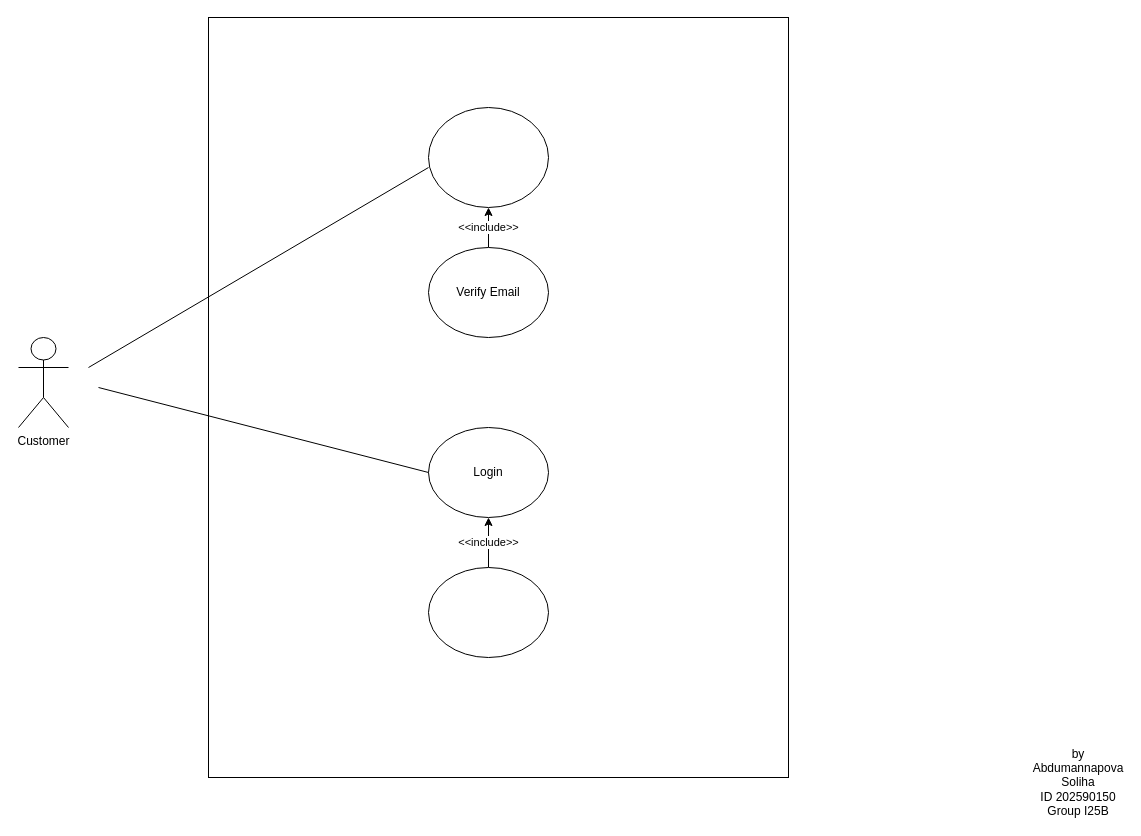
Some shapes in this 1141 by 836 pixel diagram are drawn without their labels. The shapes that lost their labels are listed below. From the top down, each one's box as (x1, y1, x2, y2) in pixels, then its label:
(428, 106, 548, 208): Sign Up
(428, 566, 548, 658): Verify Password
